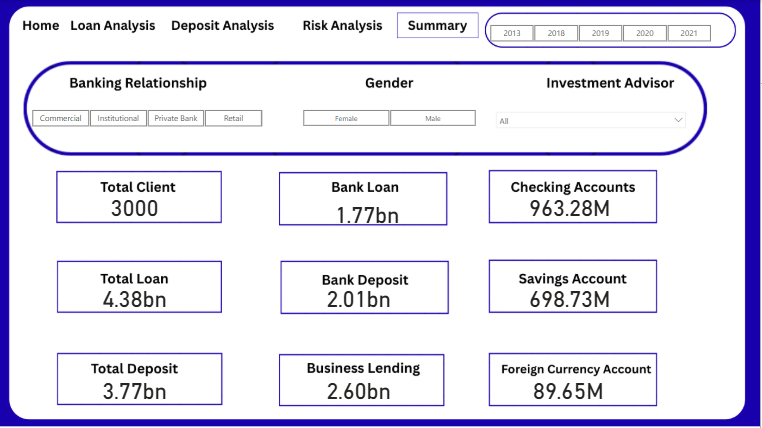

This screenshot's page, from the dashboard's own definition file:
{"tool":"powerbi","page":{"name":"Summary","canvas":[1280,720],"ordinal":4},"visuals":[{"type":"slicer","fields":{"Values":["Clients - Banking.Year of Joining"]},"box":[801.3,35.3,419.9,40.3],"z":0},{"type":"actionButton","box":[16.8,20.2,115.9,48.7],"z":1000},{"type":"actionButton","box":[109.2,16.8,174.7,57.1],"z":2000},{"type":"actionButton","box":[283.9,20.2,183.1,57.1],"z":3000},{"type":"slicer","fields":{"Values":["Clients - Banking.BRId"]},"box":[31.9,178.1,435.1,40.3],"z":4000},{"type":"slicer","fields":{"Values":["Clients - Banking.GenderId"]},"box":[487.1,178.1,339.3,40.3],"z":5000},{"type":"slicer","fields":{"Values":["Investment Advisor.IAId"]},"box":[826.5,178.1,339.3,40.3],"z":6000},{"type":"card","fields":{"Values":["CountNonNull(Clients - Banking.Name)"]},"box":[132.7,315.8,193.2,62.2],"z":7000},{"type":"card","fields":{"Values":["Clients - Banking.Total Loan"]},"box":[132.7,468.7,193.2,62.2],"z":8000},{"type":"card","fields":{"Values":["Clients - Banking.Total Deposit"]},"box":[132.7,623.2,193.2,62.2],"z":9000},{"type":"card","fields":{"Values":["Sum(Clients - Banking.Bank Loans)"]},"box":[539.2,327.6,161.3,62.2],"z":10000},{"type":"card","fields":{"Values":["Sum(Clients - Banking.Bank Deposits)"]},"box":[509,468.7,193.2,62.2],"z":11000},{"type":"card","fields":{"Values":["Sum(Clients - Banking.Business Lending)"]},"box":[509,623.2,193.2,62.2],"z":12000},{"type":"card","fields":{"Values":["Sum(Clients - Banking.Checking Accounts)"]},"box":[863.4,315.8,193.2,62.2],"z":13000},{"type":"card","fields":{"Values":["Sum(Clients - Banking.Saving Accounts)"]},"box":[875.2,468.7,169.7,62.2],"z":14000},{"type":"card","fields":{"Values":["Sum(Clients - Banking.Foreign Currency Account)"]},"box":[858.4,623.2,198.2,62.2],"z":15000},{"type":"actionButton","box":[473.7,20.2,183.1,57.1],"z":15001}]}

Visuals, with their boxes in screenshot pixels (x1, y1, x2, y2), scaled from the page's 1280x720 canvas onto the 762x428 screenshot:
slicer - Clients - Banking.Year of Joining: [477,21,727,45]
actionButton: [10,12,79,41]
actionButton: [65,10,169,44]
actionButton: [169,12,278,46]
slicer - Clients - Banking.BRId: [19,106,278,130]
slicer - Clients - Banking.GenderId: [290,106,492,130]
slicer - Investment Advisor.IAId: [492,106,694,130]
card - CountNonNull(Clients - Banking.Name): [79,188,194,225]
card - Clients - Banking.Total Loan: [79,279,194,316]
card - Clients - Banking.Total Deposit: [79,370,194,407]
card - Sum(Clients - Banking.Bank Loans): [321,195,417,232]
card - Sum(Clients - Banking.Bank Deposits): [303,279,418,316]
card - Sum(Clients - Banking.Business Lending): [303,370,418,407]
card - Sum(Clients - Banking.Checking Accounts): [514,188,629,225]
card - Sum(Clients - Banking.Saving Accounts): [521,279,622,316]
card - Sum(Clients - Banking.Foreign Currency Account): [511,370,629,407]
actionButton: [282,12,391,46]
